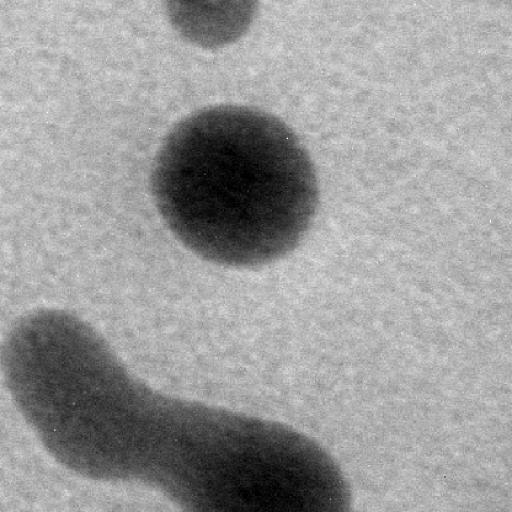Nanoparticles: (2, 298, 173, 495), (146, 98, 324, 274), (172, 412, 354, 512), (161, 1, 268, 53)
